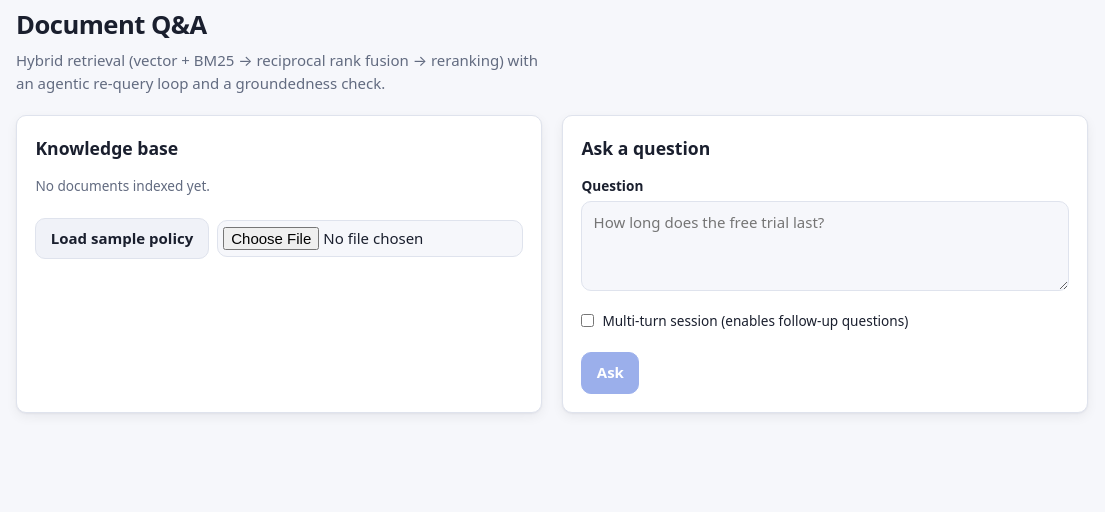
DocQA › points a rate-limited user at the billing page
The width and height of the screenshot is (1105, 512).
Step 1. Type "Another question here" into the text box labelled "Question" → (825, 246), box left=581, top=201, right=1069, bottom=291
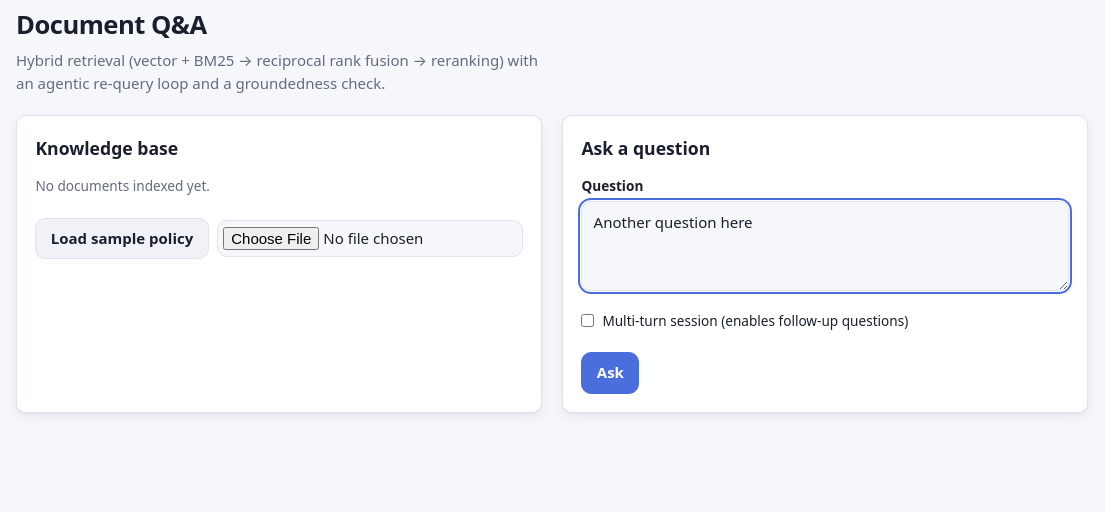
Step 2. Click the button "Ask" → (610, 373), box left=581, top=352, right=639, bottom=394
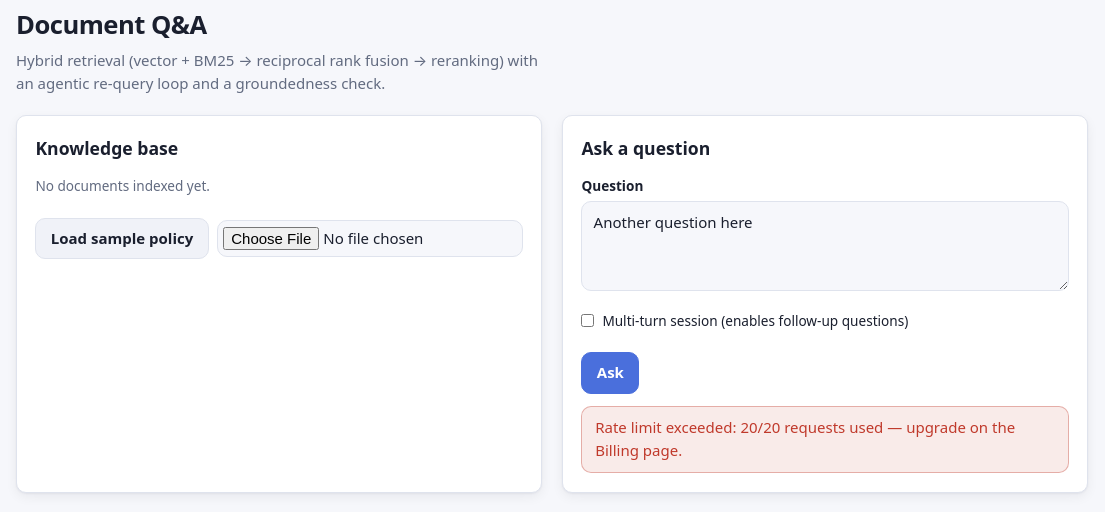
expect the message shows "upgrade on the Billing page": met, box left=595, top=417, right=1015, bottom=460
